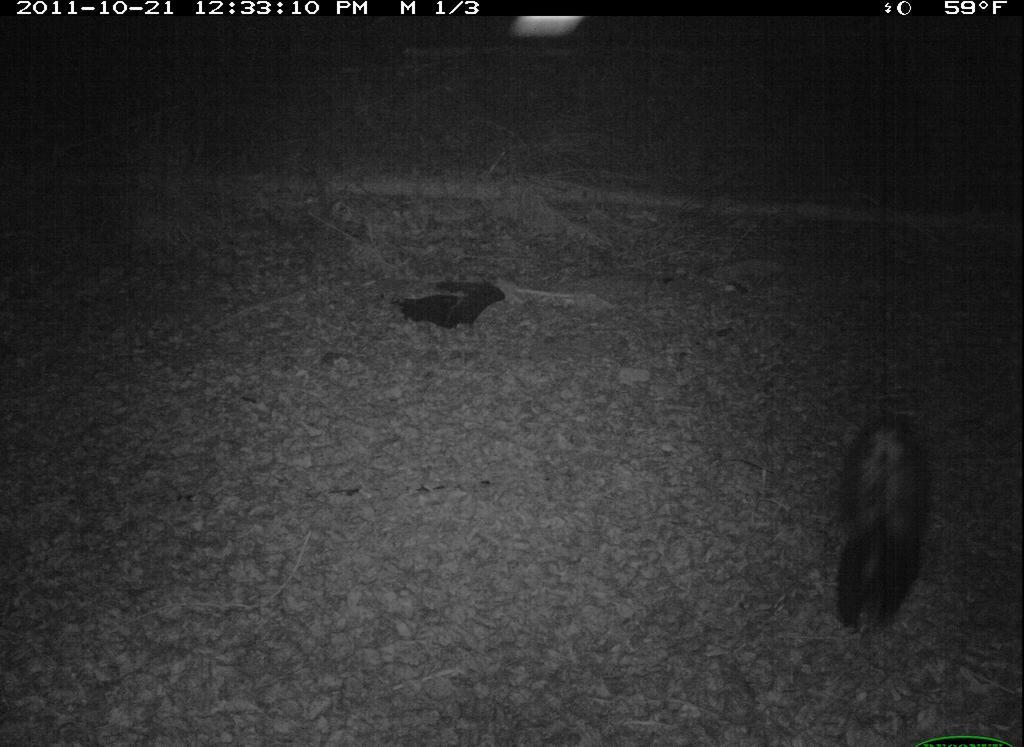skunk: (827, 401, 944, 648)
